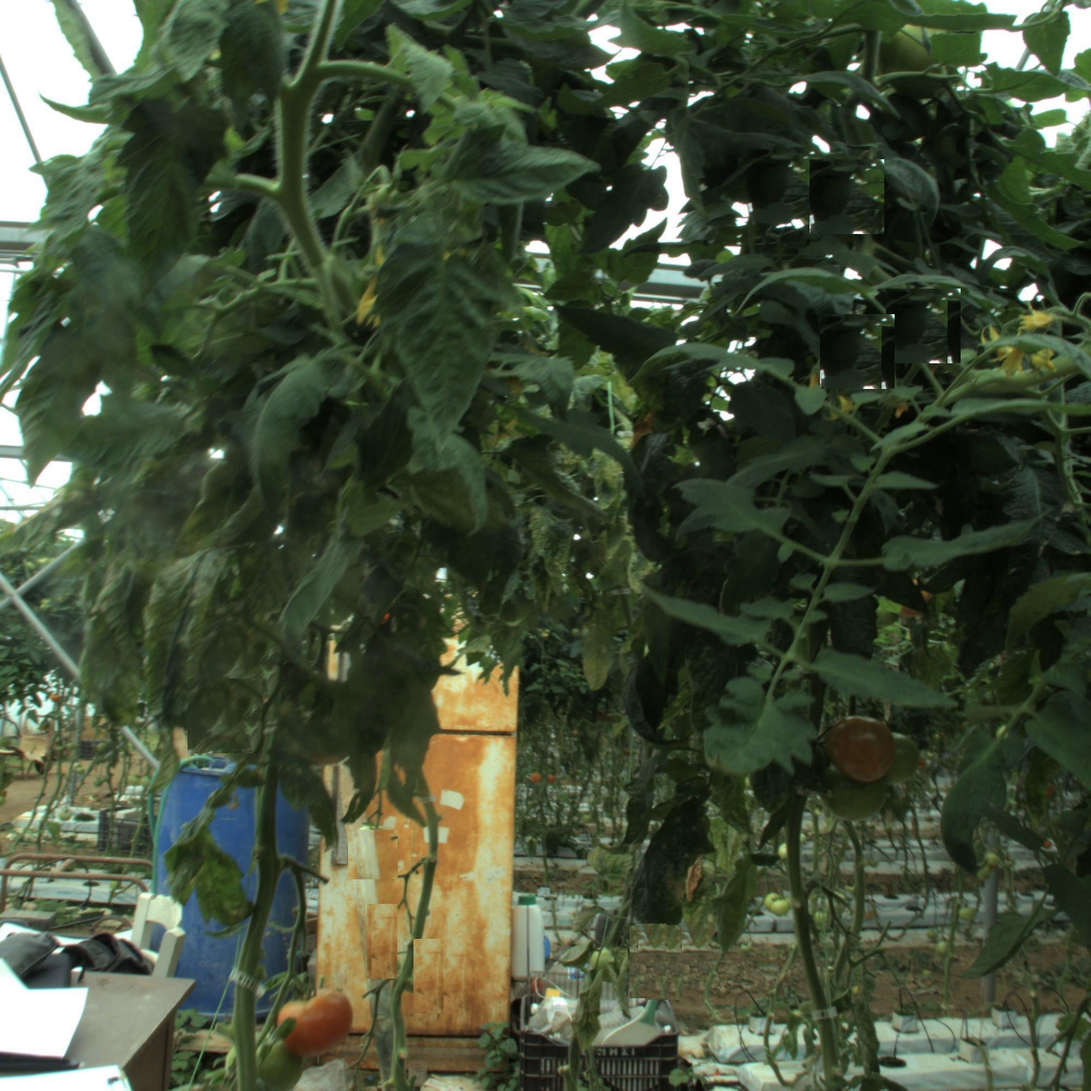fully-ripe: (277, 980, 351, 1054)
unripe: (822, 758, 887, 824), (830, 718, 896, 783)
